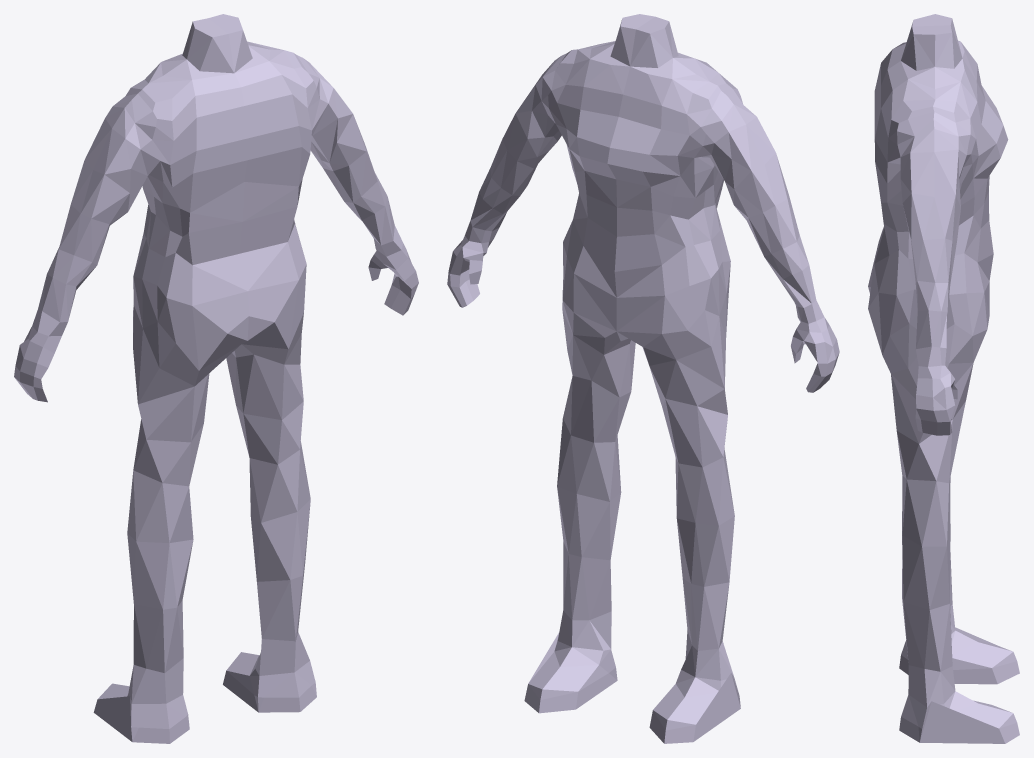
File: sylphbodyPurple.glb
The picture shows the model from 3 angles, left to right: view 1: azimuth 30°, elevation 25°; view 2: azimuth 150°, elevation 25°; view 3: azimuth 270°, elevation 25°; orthographic projection. The views are drawn at different scales.
Visible parts, largest first — view 1: Sylph frag body; view 2: Sylph frag body; view 3: Sylph frag body.
Boxes of the visible parts, x1,y1,x2,y2 form: Sylph frag body: (14,14,418,743); Sylph frag body: (447,14,839,743); Sylph frag body: (868,14,1019,743).
Size of the model in its own units: 1.37 by 2.31 by 0.4674.
1 material, 1 textured.
